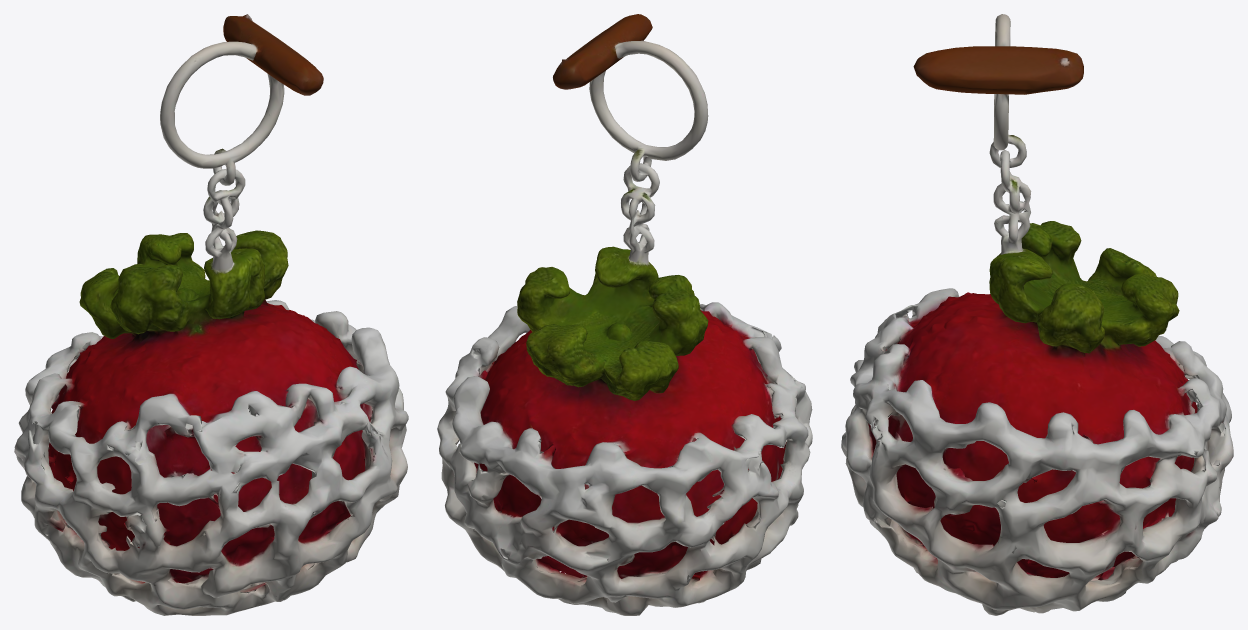
File: strawberryKeychain.glb
3 renders of one model, left to right at view 1: azimuth 30°, elevation 25°; view 2: azimuth 150°, elevation 25°; view 3: azimuth 270°, elevation 25°, orthographic. The views are drawn at different scales.
Visible parts, largest first — view 1: tripo_node_028ec6bd-635a-4a9b-906b-74fc5b258cf0; view 2: tripo_node_028ec6bd-635a-4a9b-906b-74fc5b258cf0; view 3: tripo_node_028ec6bd-635a-4a9b-906b-74fc5b258cf0.
Boxes of the visible parts, x1,y1,x2,y2 form: tripo_node_028ec6bd-635a-4a9b-906b-74fc5b258cf0: [14, 14, 408, 615]; tripo_node_028ec6bd-635a-4a9b-906b-74fc5b258cf0: [437, 14, 812, 615]; tripo_node_028ec6bd-635a-4a9b-906b-74fc5b258cf0: [841, 14, 1233, 615].
Size of the model in its own units: 0.6246 by 1 by 0.6172.
Materials: 1 (1 with a texture image).
